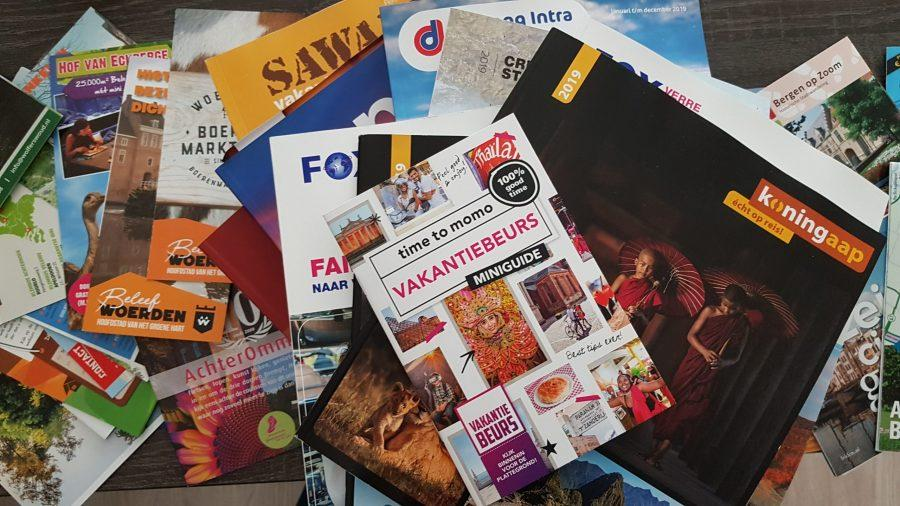paper: (0, 0, 852, 496)
